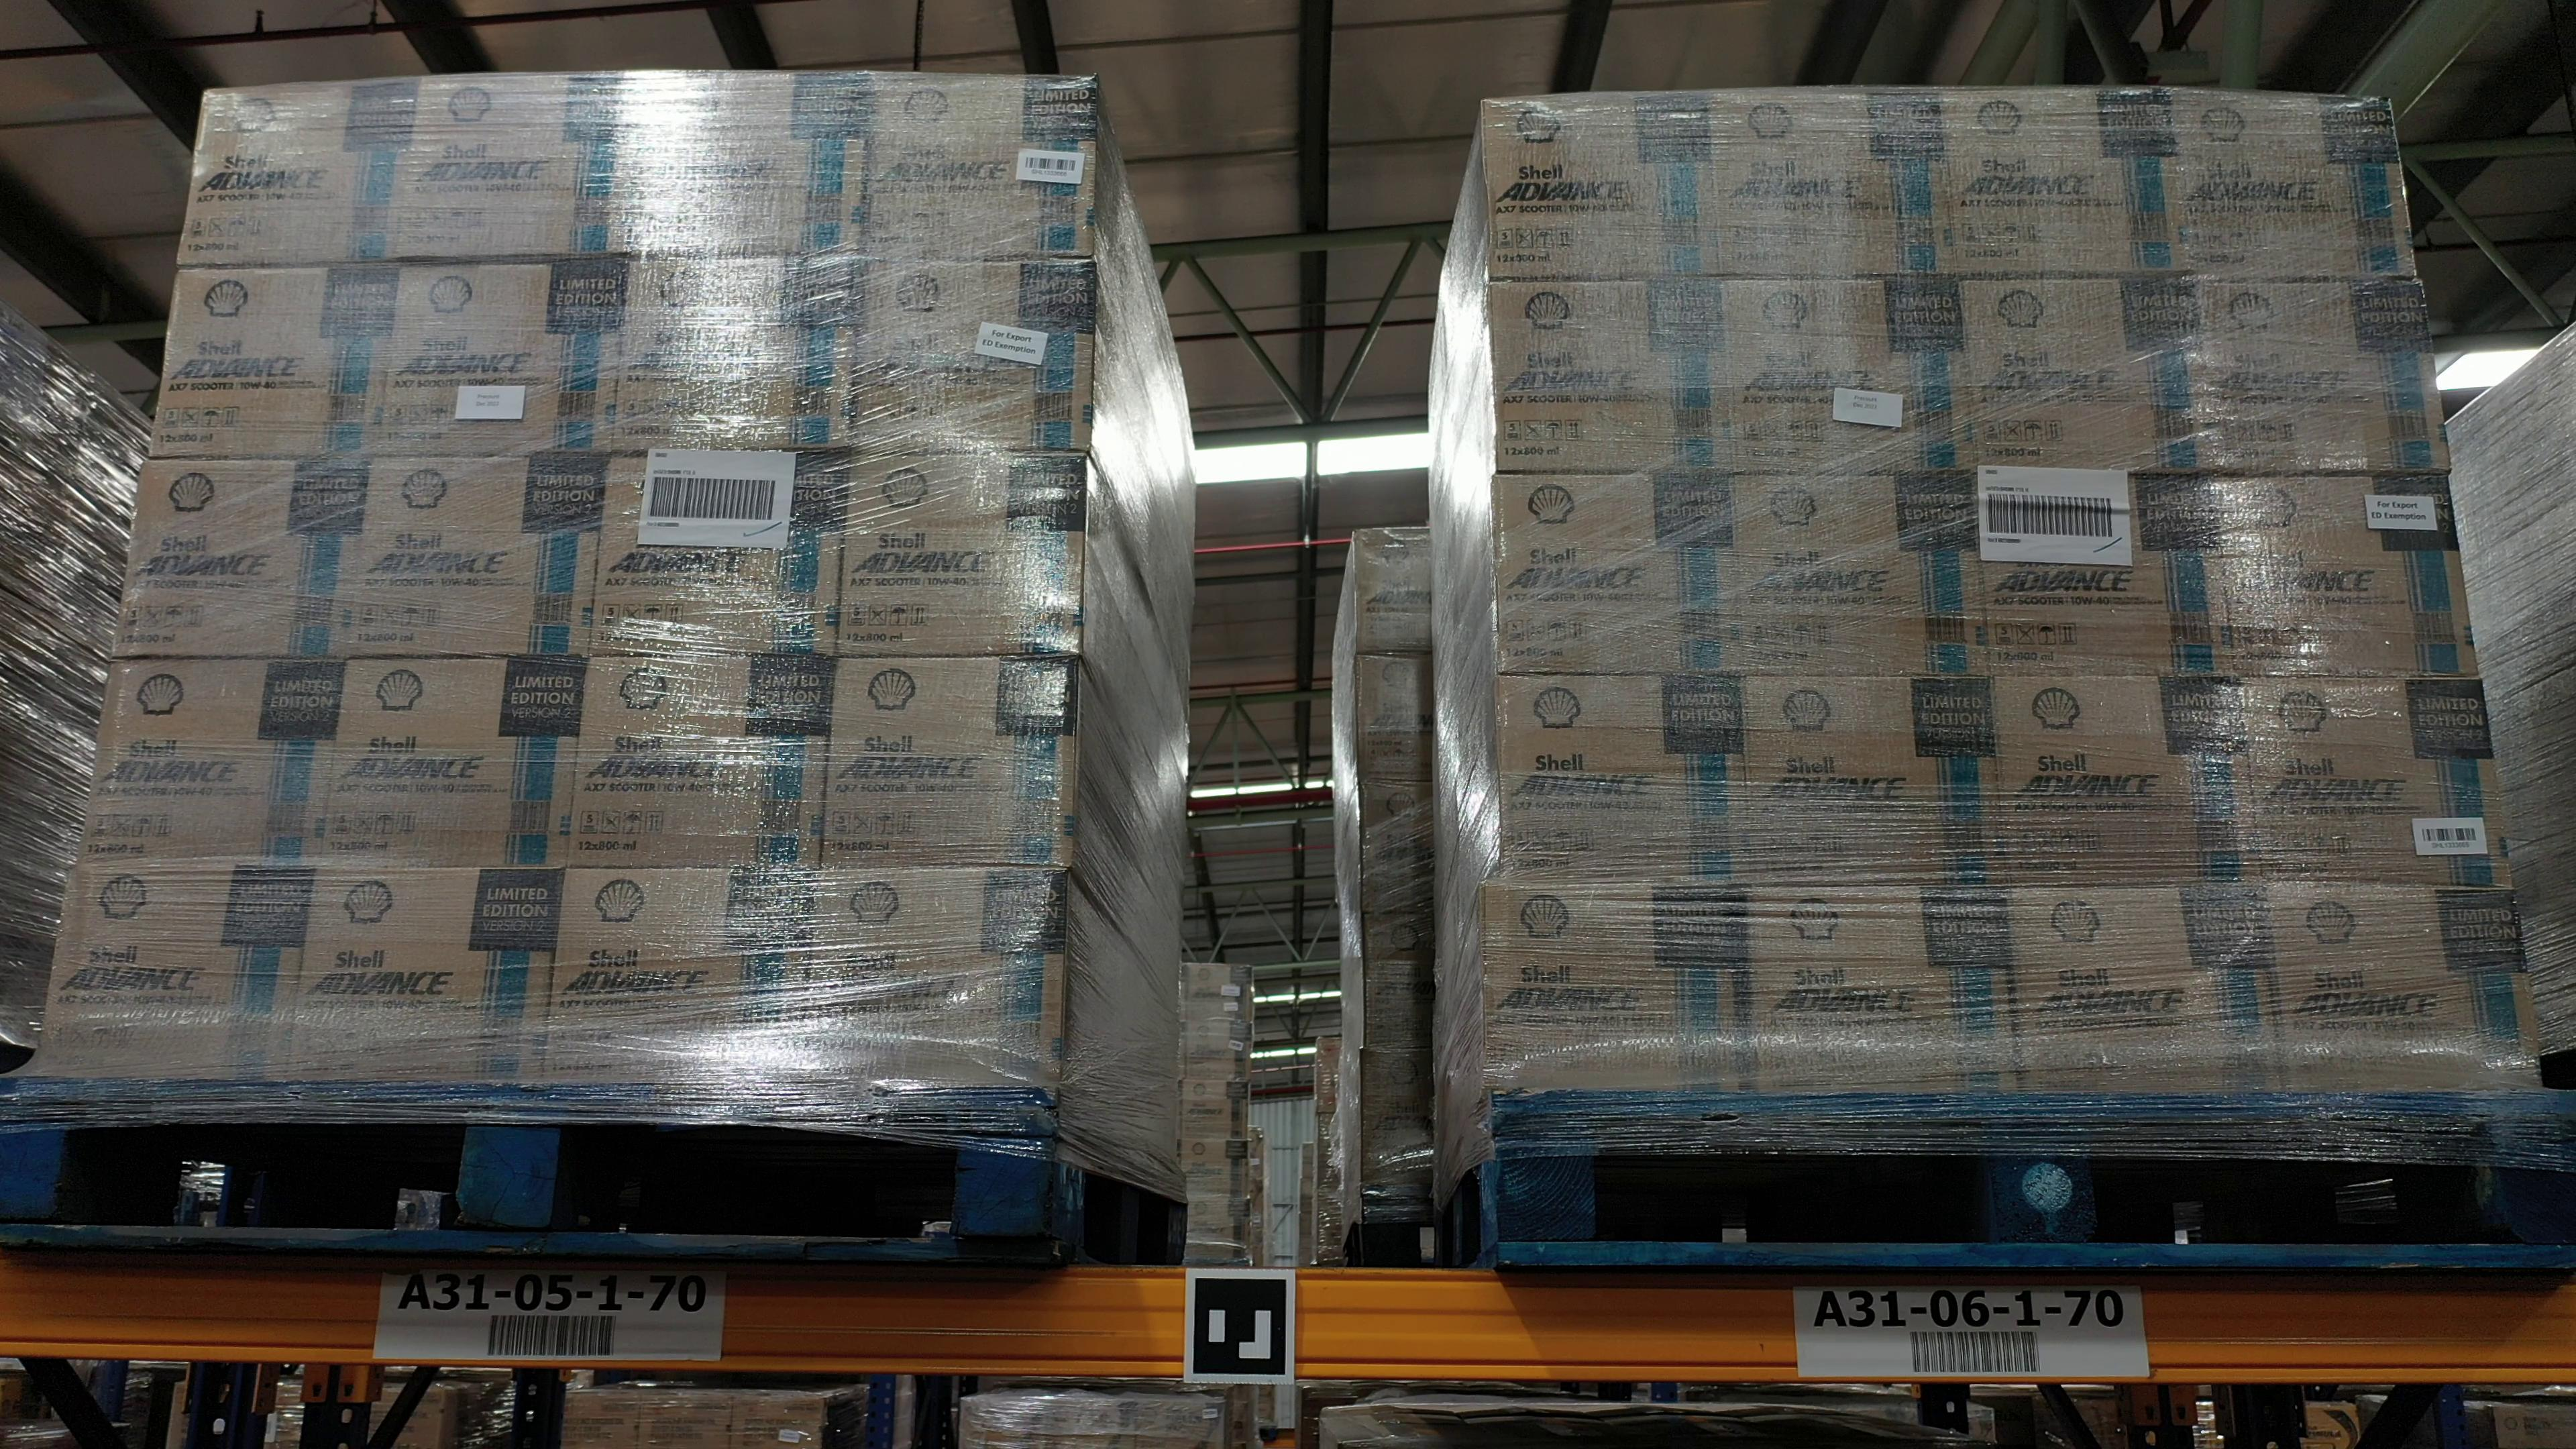-: (798, 865, 1067, 1102), (541, 865, 821, 1090), (288, 862, 566, 1085), (35, 863, 315, 1083), (2265, 876, 2542, 1095), (1484, 876, 1764, 1092), (2006, 883, 2286, 1095), (317, 655, 591, 870), (2240, 676, 2514, 890), (568, 655, 837, 872), (1755, 881, 2022, 1095), (1990, 676, 2265, 883), (78, 655, 347, 865), (1743, 671, 2003, 886), (821, 655, 1079, 870), (591, 448, 849, 660), (1493, 671, 1753, 881), (2213, 472, 2477, 679), (1736, 469, 1992, 679), (349, 455, 609, 662), (839, 449, 1090, 662), (1982, 474, 2238, 681), (113, 458, 373, 662), (375, 257, 633, 458), (1723, 274, 1983, 474), (1964, 272, 2220, 474), (145, 262, 400, 464), (2196, 278, 2456, 474), (612, 255, 865, 455), (2171, 85, 2422, 285), (1943, 85, 2197, 281), (1493, 472, 1744, 671), (849, 255, 1095, 456), (1490, 272, 1736, 474), (396, 71, 651, 262), (1711, 90, 1959, 280), (177, 76, 423, 265), (633, 69, 874, 260), (1484, 90, 1723, 280), (863, 71, 1095, 260)
